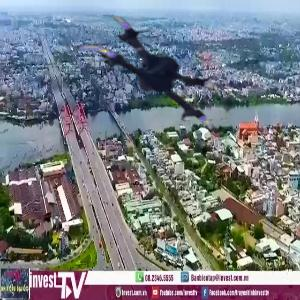drone: (68, 7, 224, 163)
